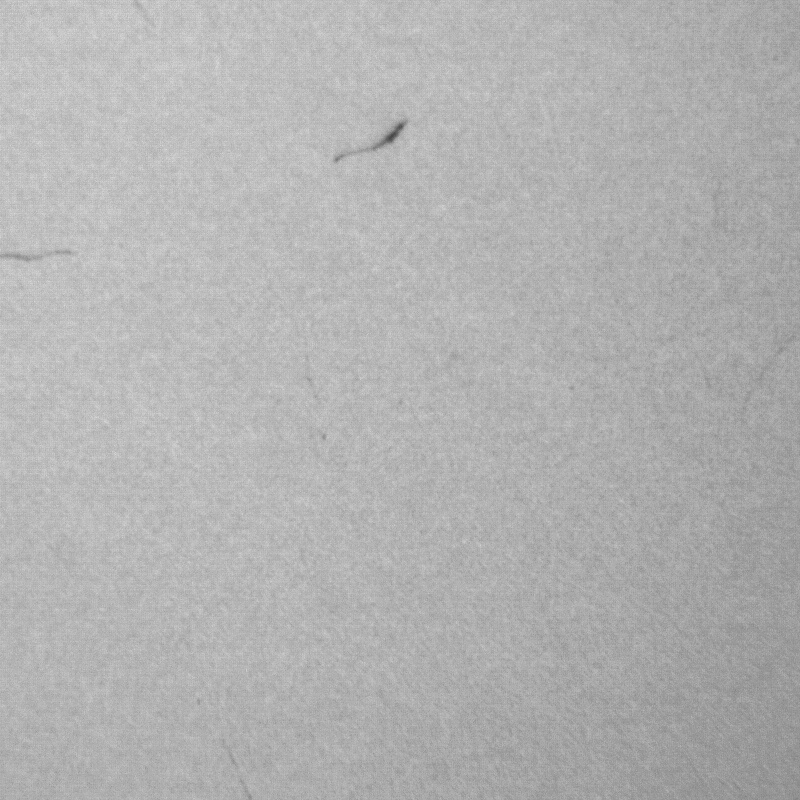defect: (740, 328, 800, 412), (334, 124, 406, 165), (222, 744, 254, 797), (1, 251, 82, 264), (130, 1, 156, 29)
